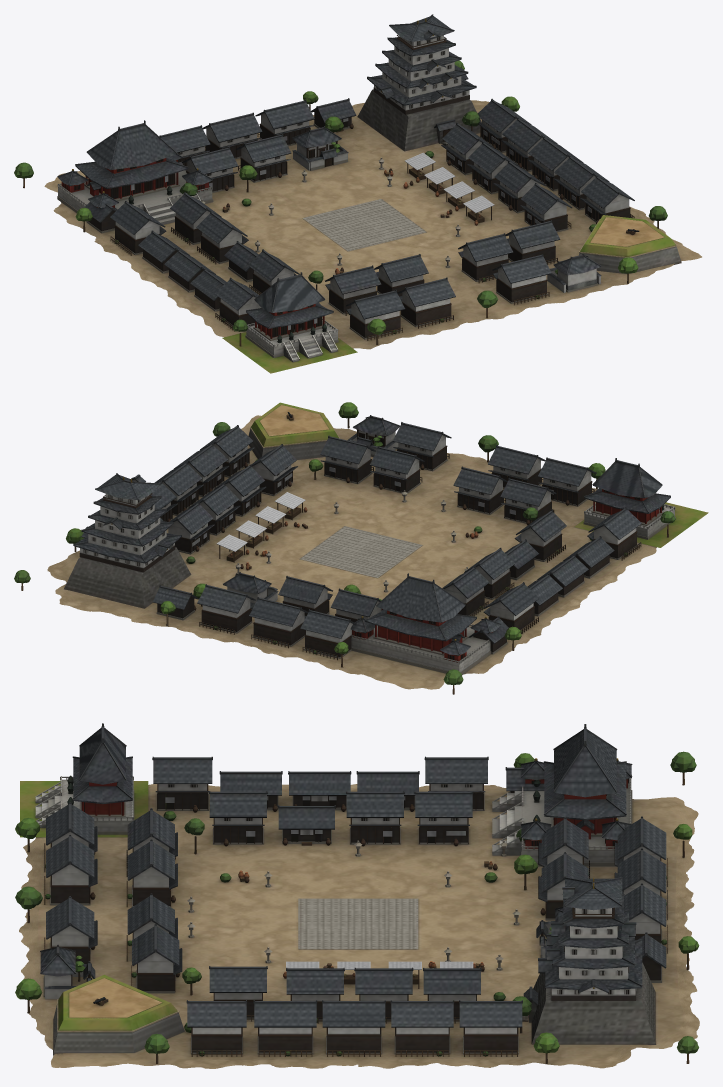
File: gunpowder-town-big-a-japan.glb
3 renders of one model, top to bottom at view 1: azimuth 30°, elevation 25°; view 2: azimuth 150°, elevation 25°; view 3: azimuth 270°, elevation 25°, orthographic. The views are drawn at different scales.
Visible parts, largest first — view 1: LOD0; view 2: LOD0; view 3: LOD0.
Boxes of the visible parts, x1,y1,x2,y2 form: LOD0: (14, 14, 701, 373); LOD0: (14, 402, 708, 694); LOD0: (15, 723, 699, 1068).
Size of what is drawn, in the model's own units: 8.05 by 1.8 by 8.12.
Materials: 3 (3 with a texture image).
